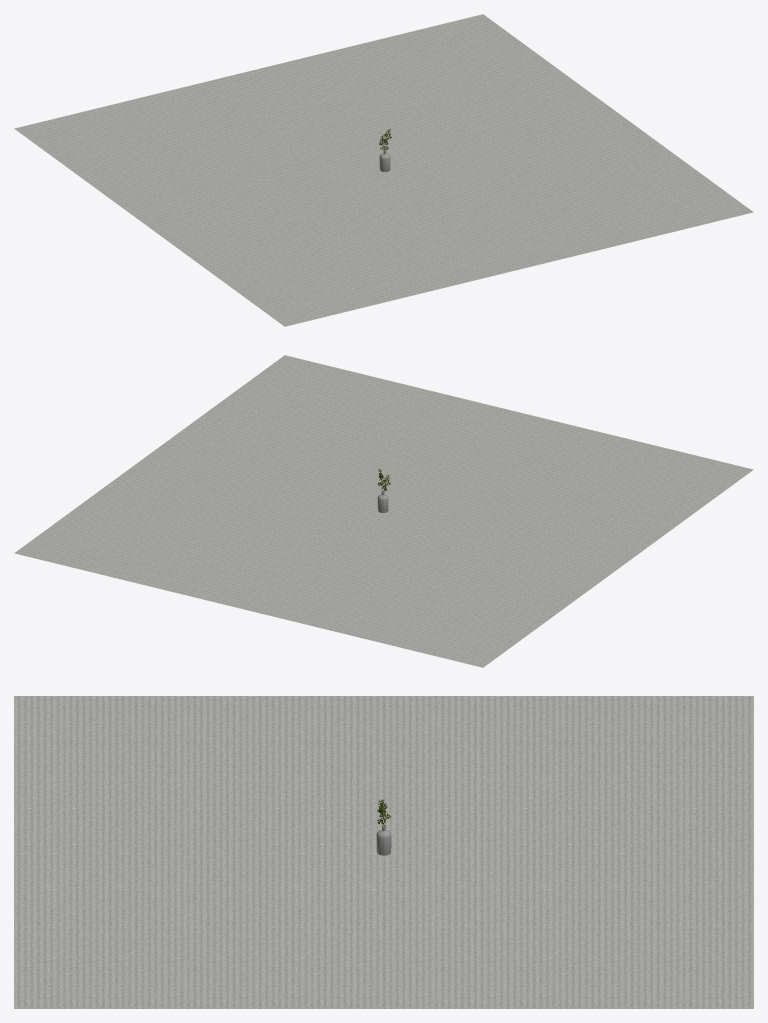
Rendered from Vase3.glb.
The picture shows the model from 3 angles, top to bottom: view 1: azimuth 30°, elevation 25°; view 2: azimuth 150°, elevation 25°; view 3: azimuth 270°, elevation 25°; orthographic projection. The views are drawn at different scales.
Parts seen in each view (by area): view 1: abc52df2-0a7f-4cd1-8bc6-db79a59e682b; view 2: abc52df2-0a7f-4cd1-8bc6-db79a59e682b; view 3: abc52df2-0a7f-4cd1-8bc6-db79a59e682b.
Part boxes in pixels (x1,y1,x2,y2): abc52df2-0a7f-4cd1-8bc6-db79a59e682b: (14, 14, 753, 326); abc52df2-0a7f-4cd1-8bc6-db79a59e682b: (14, 355, 753, 667); abc52df2-0a7f-4cd1-8bc6-db79a59e682b: (14, 696, 753, 1008).
Bounding box in the file's own units: 4 × 0.3344 × 4.
4 materials, 3 textured.
